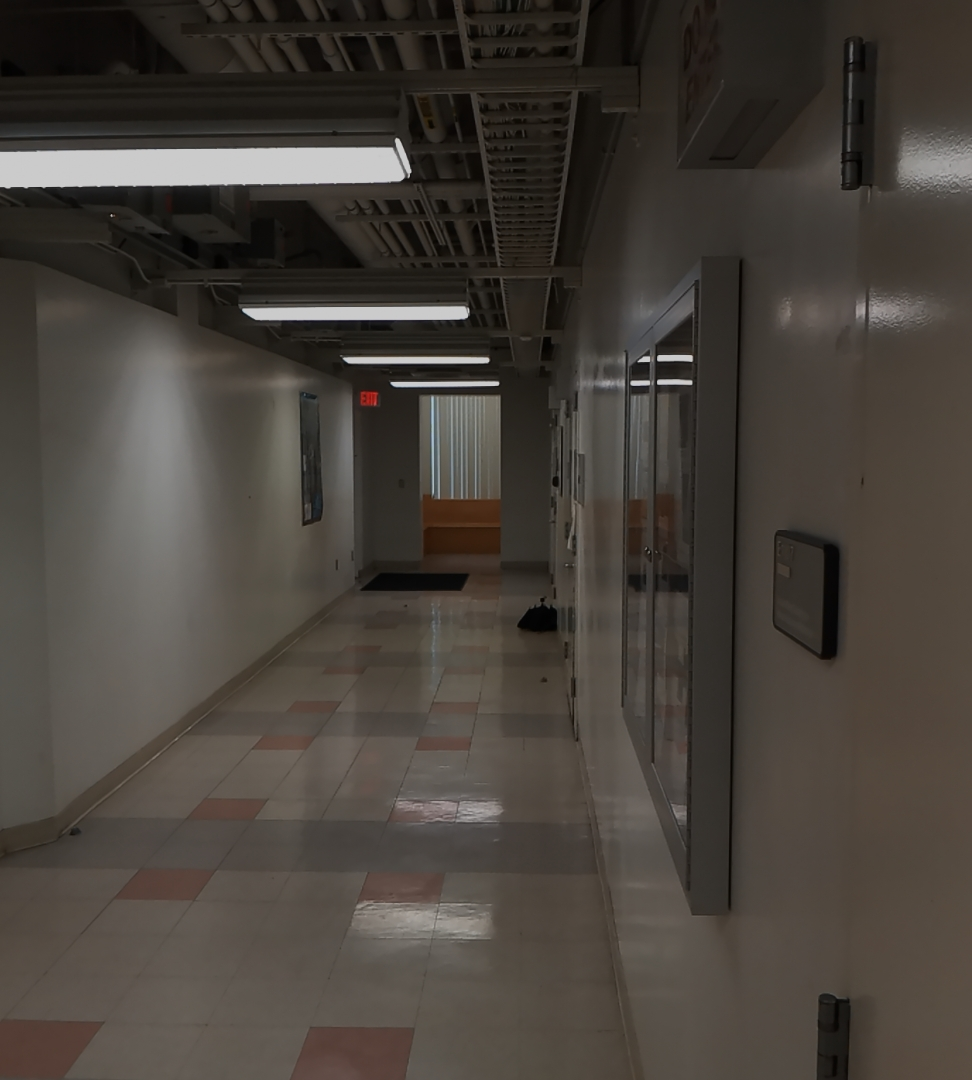emergency_exit: (357, 388, 381, 409)
